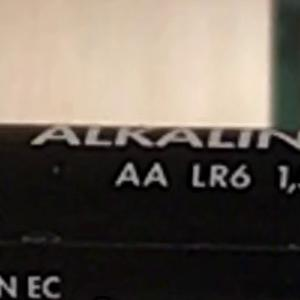LR6: (183, 156, 260, 196)
